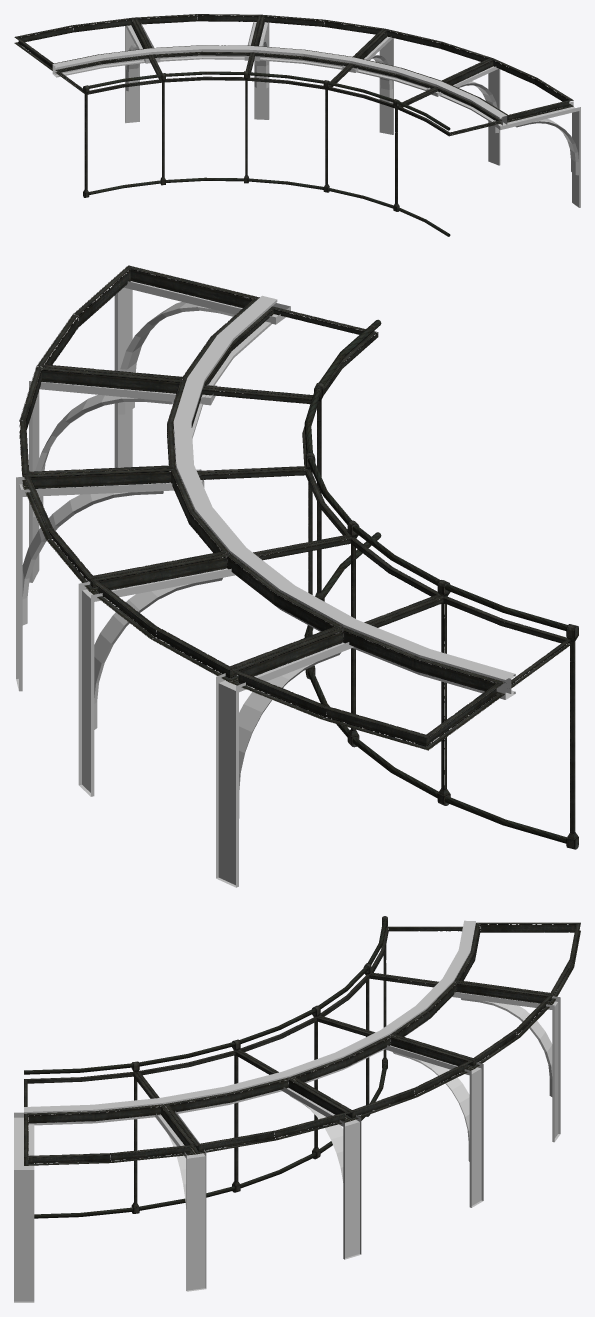
The model's file is tesla_modules_core_top.dae.
The picture shows the model from 3 angles, top to bottom: view 1: azimuth 30°, elevation 25°; view 2: azimuth 150°, elevation 25°; view 3: azimuth 270°, elevation 25°; orthographic projection. The views are drawn at different scales.
Parts seen in each view (by area): view 1: polySurface749, polySurface750; view 2: polySurface749, polySurface750; view 3: polySurface749, polySurface750.
Boxes of the visible parts, bbox=[...] form: polySurface749: bbox=[14, 14, 573, 236]; polySurface750: bbox=[52, 21, 580, 207]; polySurface749: bbox=[19, 265, 578, 849]; polySurface750: bbox=[16, 269, 515, 887]; polySurface749: bbox=[24, 916, 580, 1218]; polySurface750: bbox=[14, 920, 560, 1302].
Size of the model in its own units: 9.37 by 2.77 by 9.41.
